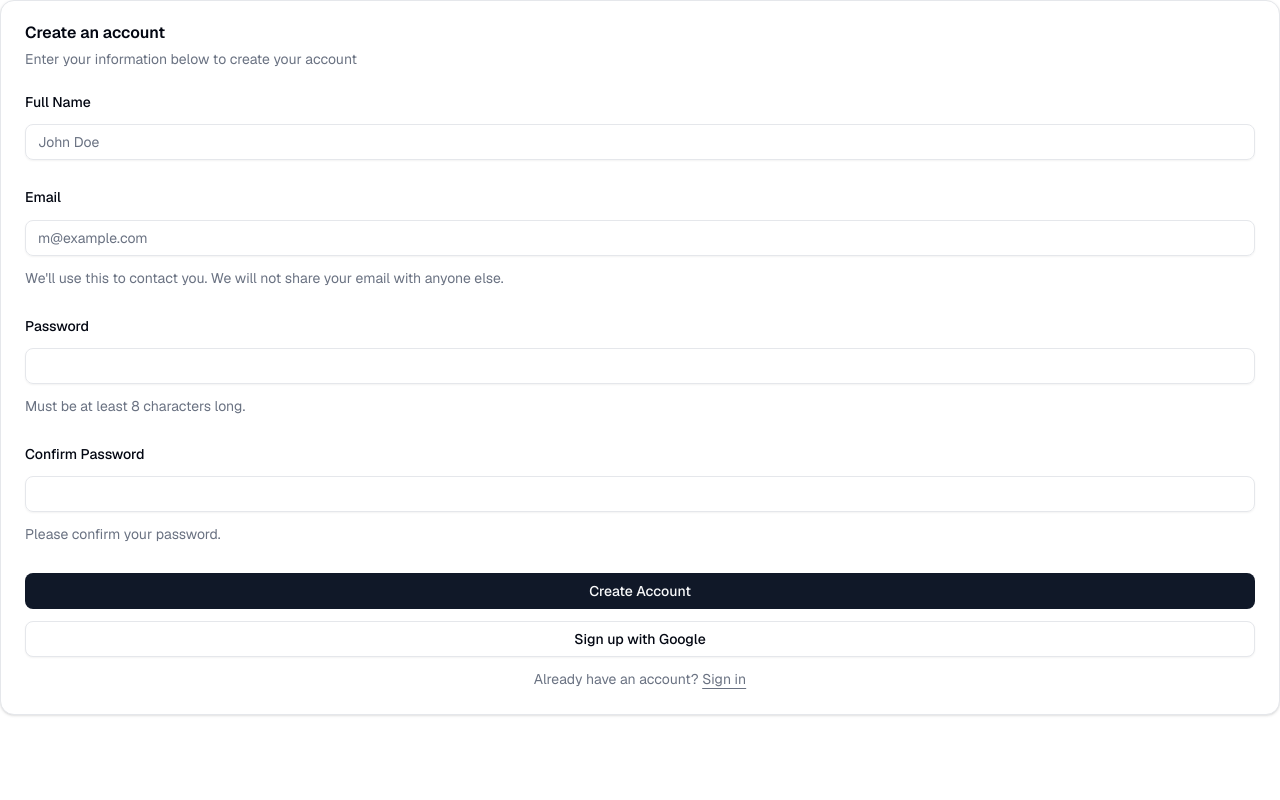
SignupForm Component › should show error when passwords do not match
Type "Test User" into the field labelled "Full Name" at (640, 142), box [25,124,1255,160]
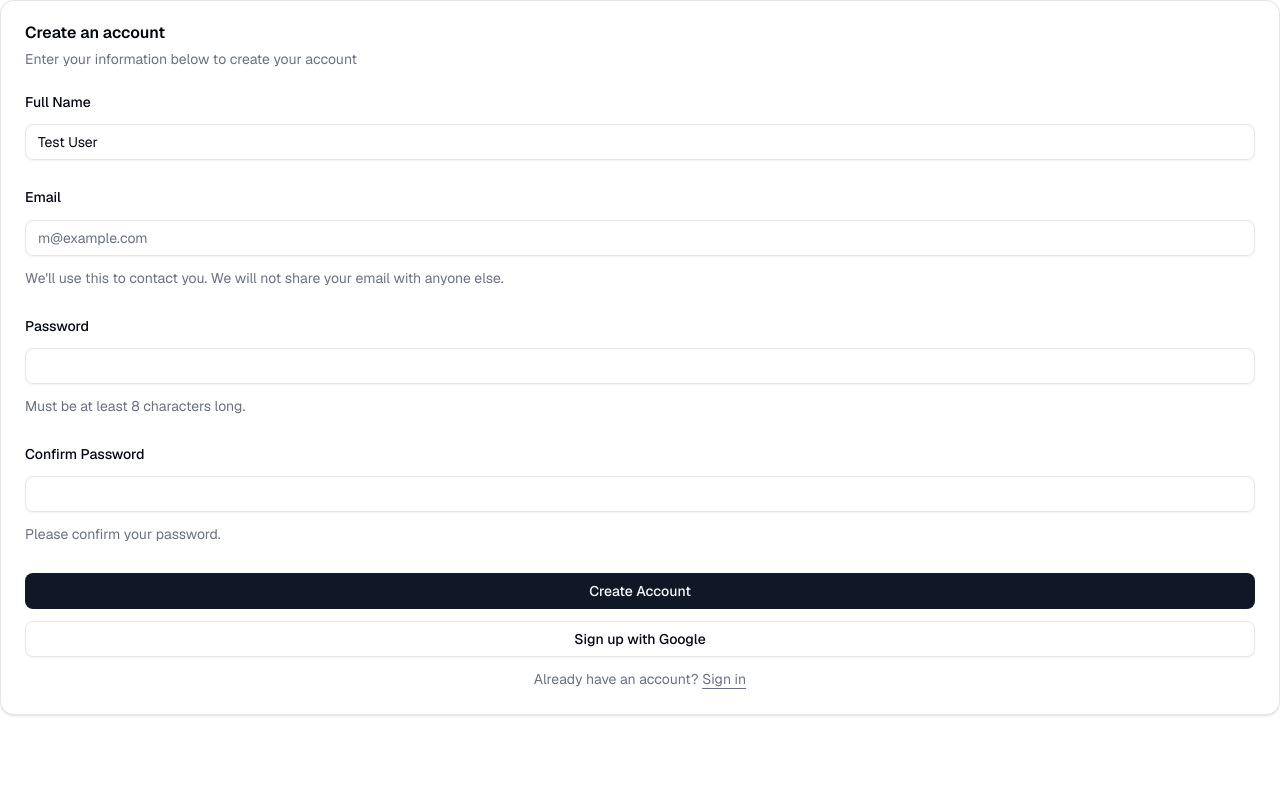
Type "test@example.com" into the field labelled "Email" at (640, 238), box [25,220,1255,256]
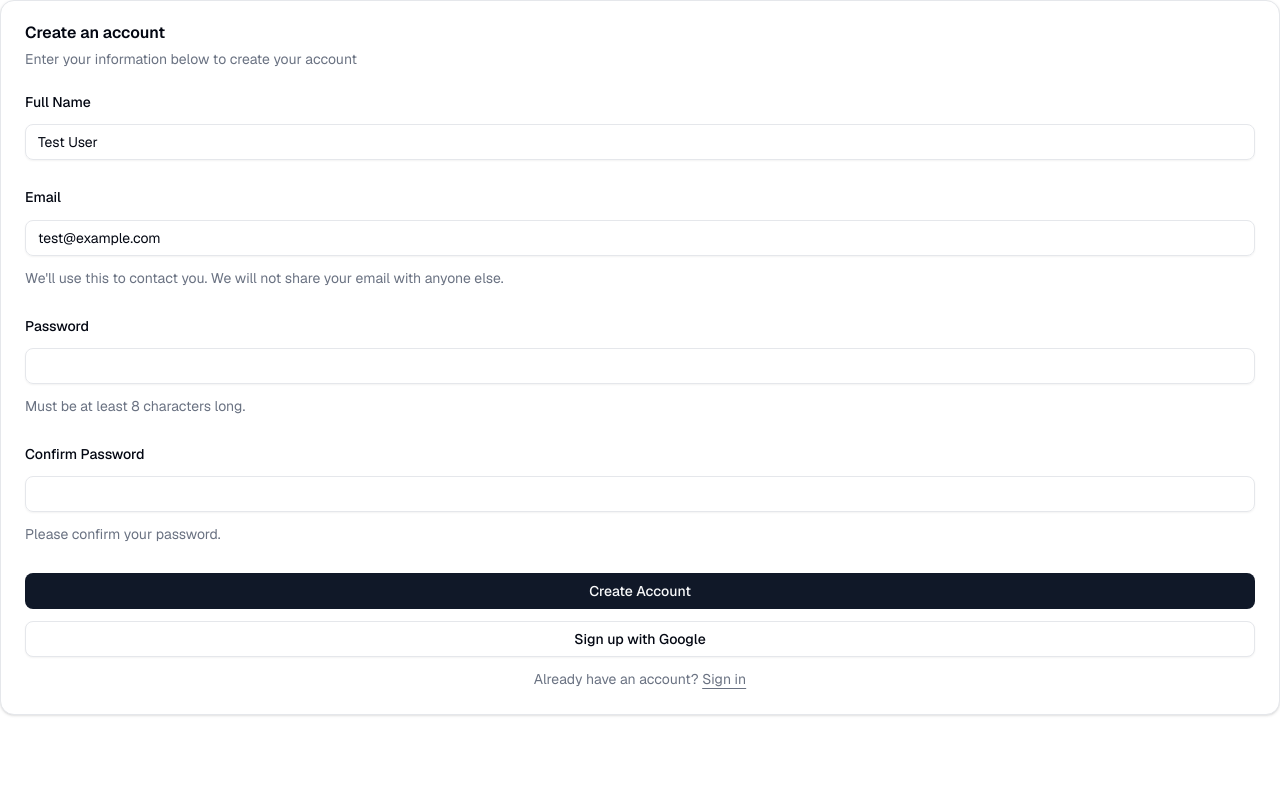
Type "password123" into the password field labelled "Password" at (640, 366), box [25,348,1255,384]
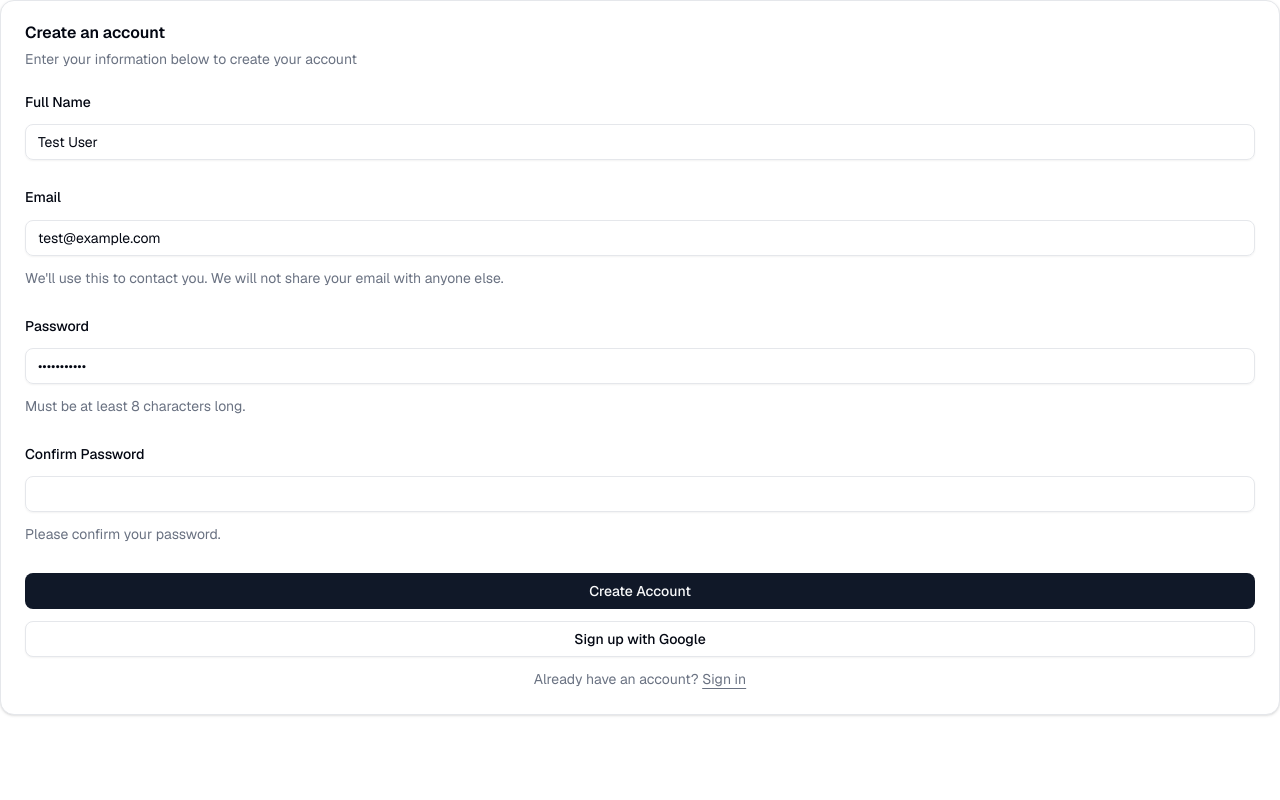
Type "password456" into the password field labelled "Confirm Password" at (640, 494), box [25,476,1255,512]
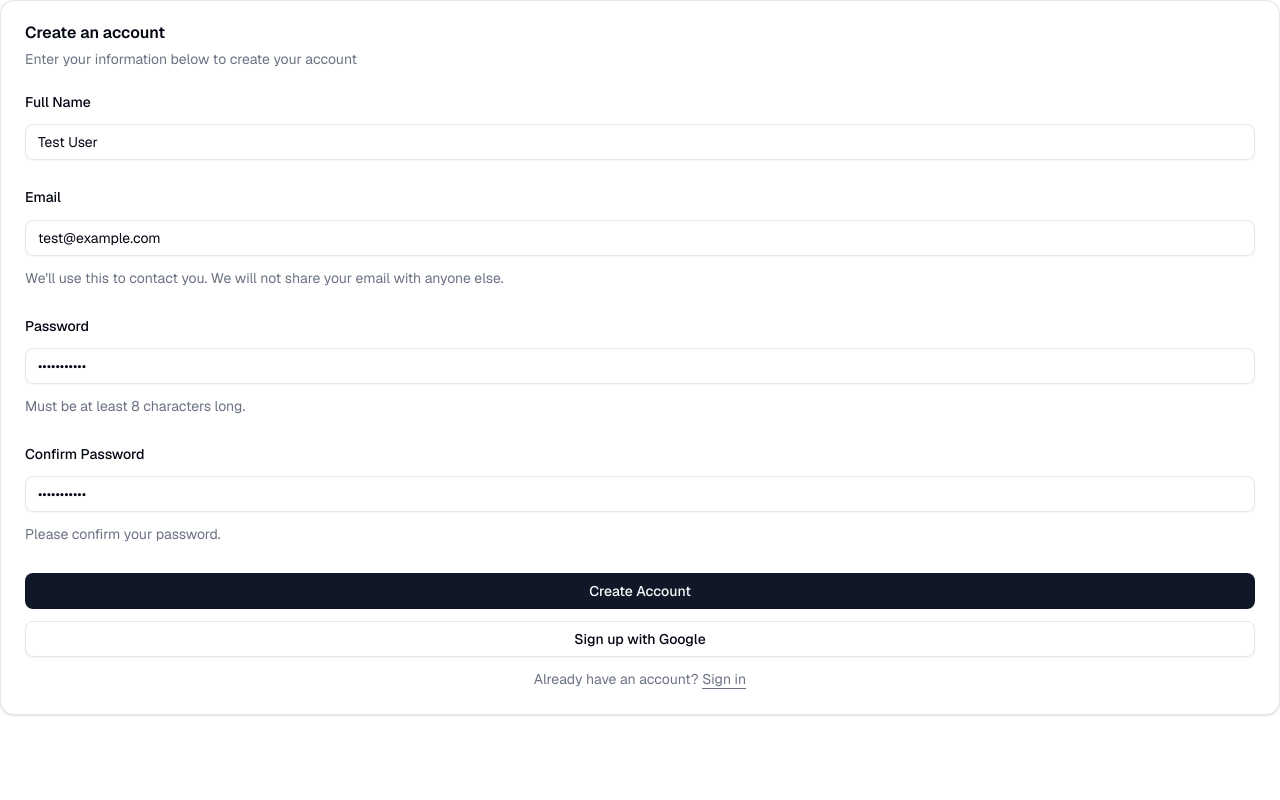
Click the button "Create Account" at (640, 591), box [25,573,1255,609]
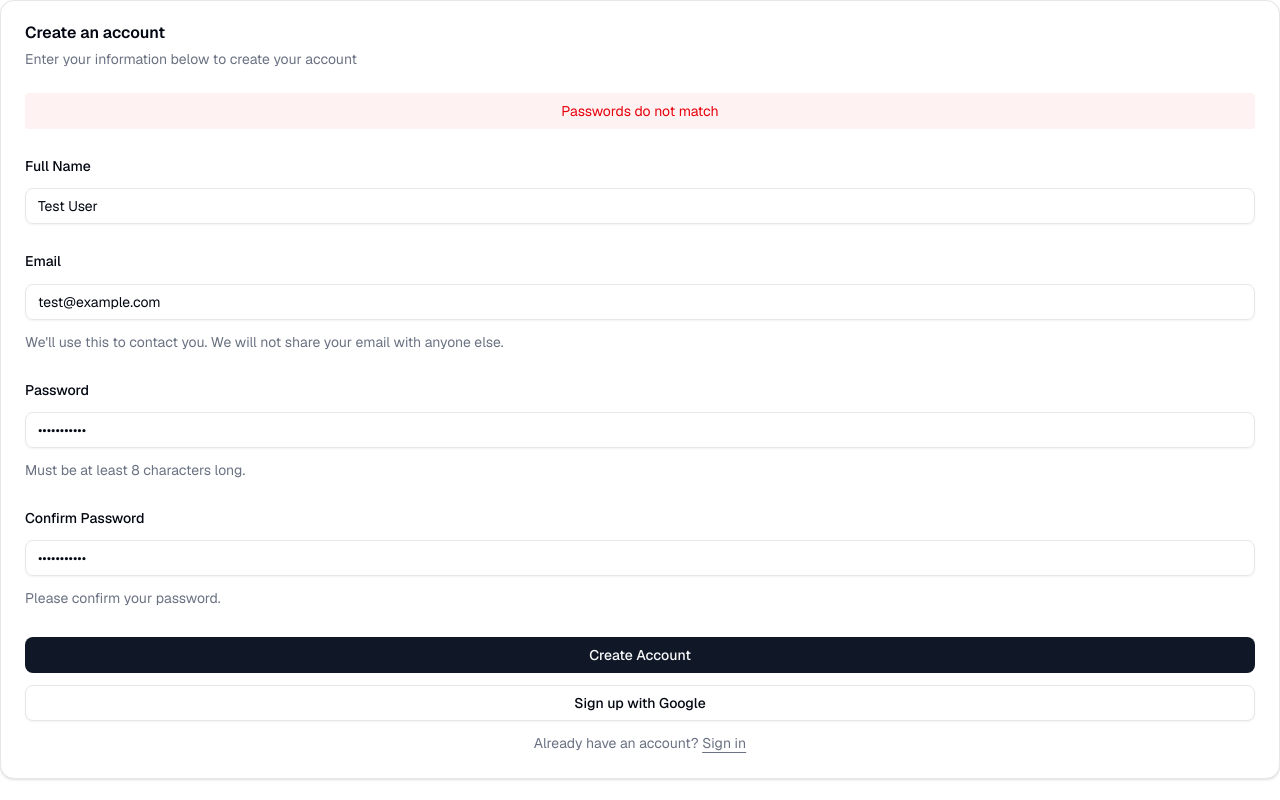
Check: the text "Passwords do not match" is shown, box [25,93,1255,129]
